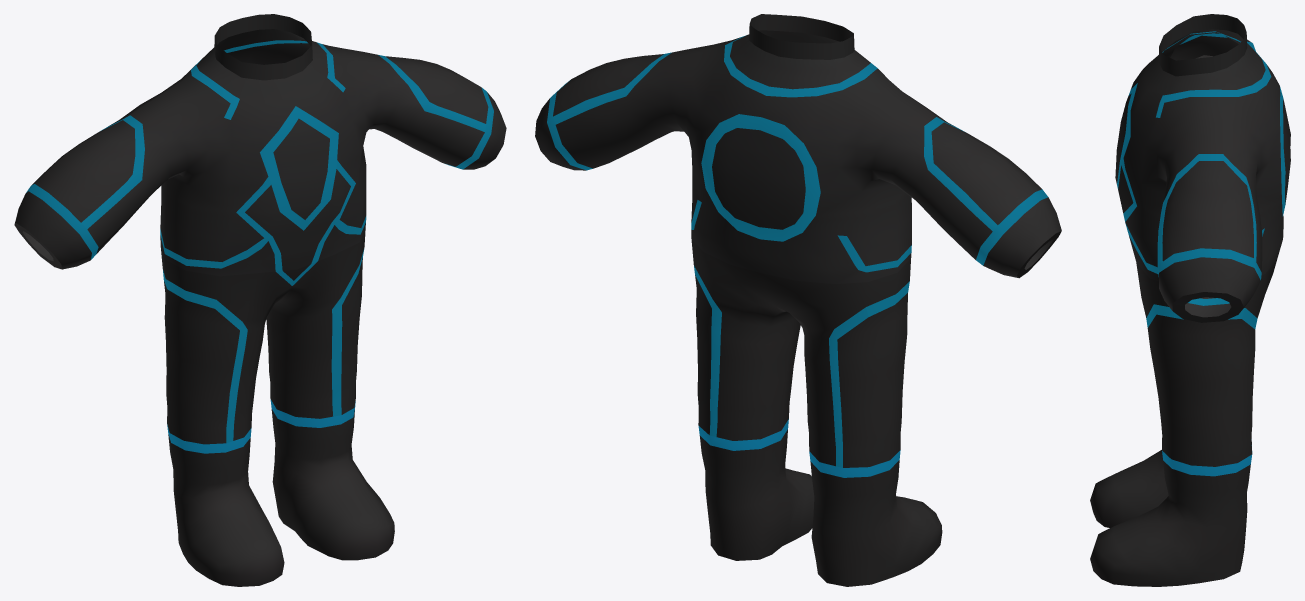
The model's file is Costume_7_01.glb.
The picture shows the model from 3 angles, left to right: view 1: azimuth 30°, elevation 25°; view 2: azimuth 150°, elevation 25°; view 3: azimuth 270°, elevation 25°; orthographic projection. The views are drawn at different scales.
Visible parts, largest first — view 1: Costume_7_01; view 2: Costume_7_01; view 3: Costume_7_01.
Boxes of the visible parts, left/top/right/bottom form: Costume_7_01: left=14, top=14, right=506, bottom=586; Costume_7_01: left=535, top=14, right=1061, bottom=586; Costume_7_01: left=1090, top=14, right=1290, bottom=586.
Size of the model in its own units: 0.6189 by 0.6222 by 0.2219.
Materials: 2 (2 with a texture image).
